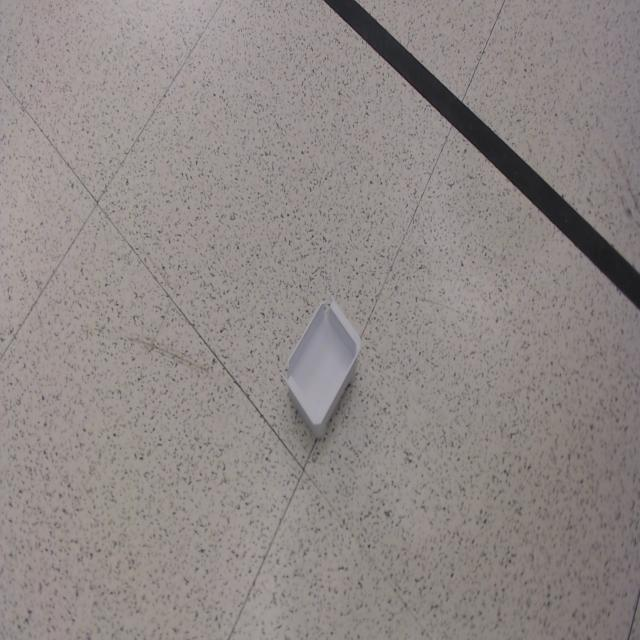wbox: (281, 296, 362, 440)
